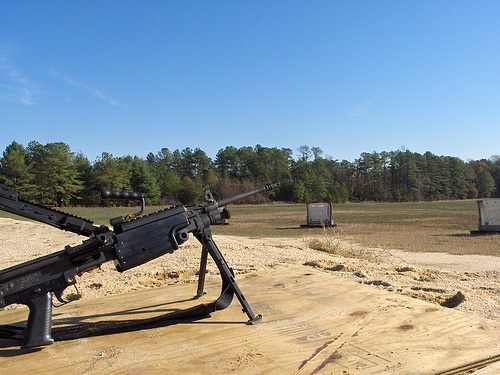rifle: (3, 180, 306, 347)
